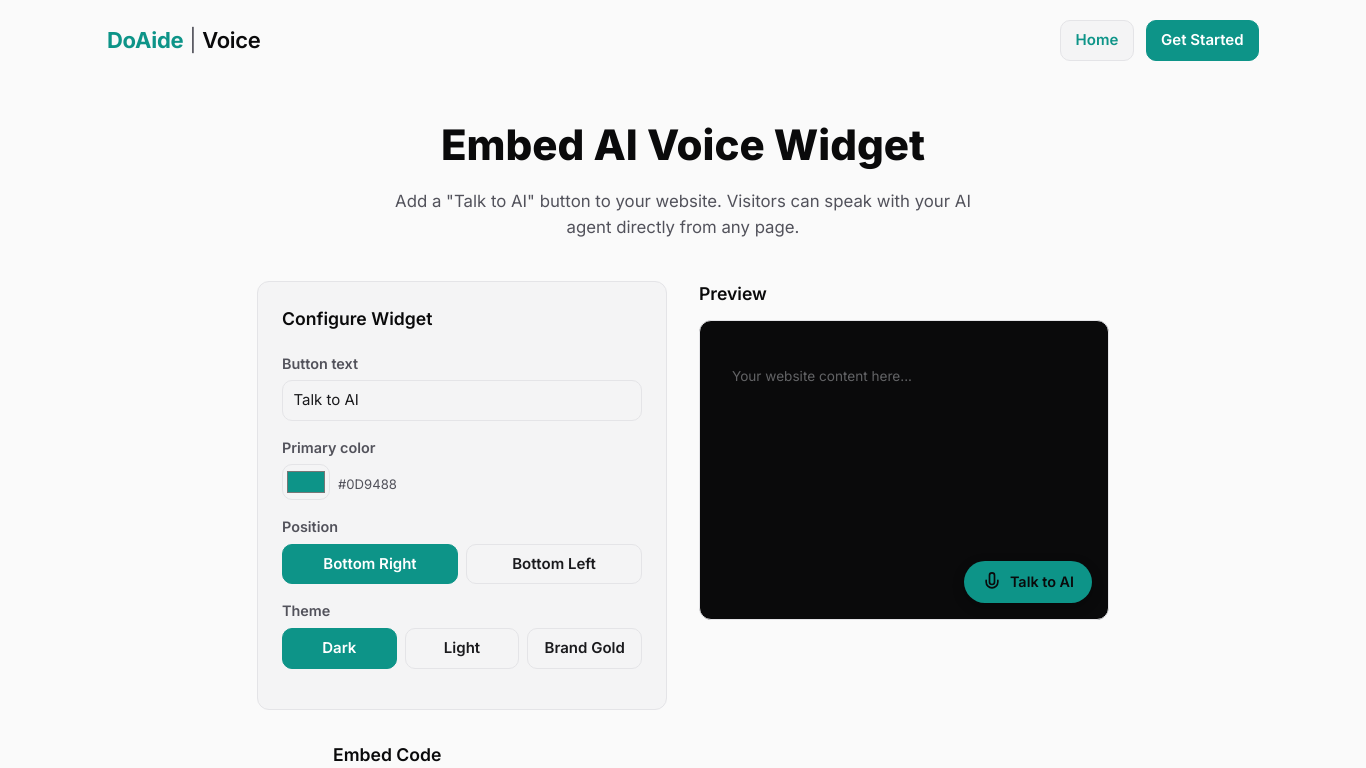
Scenario: Embed page › updates preview when button text changes
Replace the text in the field labelled "Button text" with "Ask AI" at (462, 401), box [282,380,642,421]
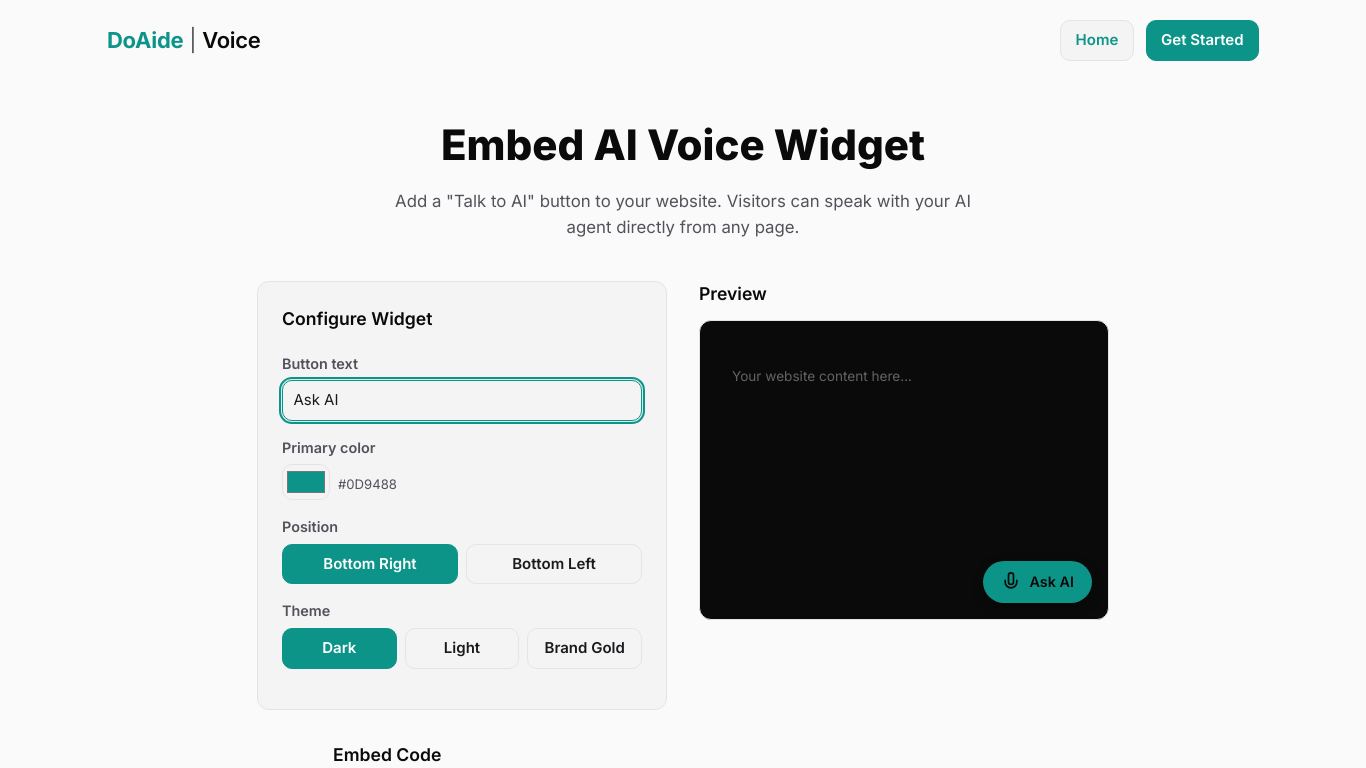
Expected: the button "Ask AI" is shown, [984,561,1092,603]
